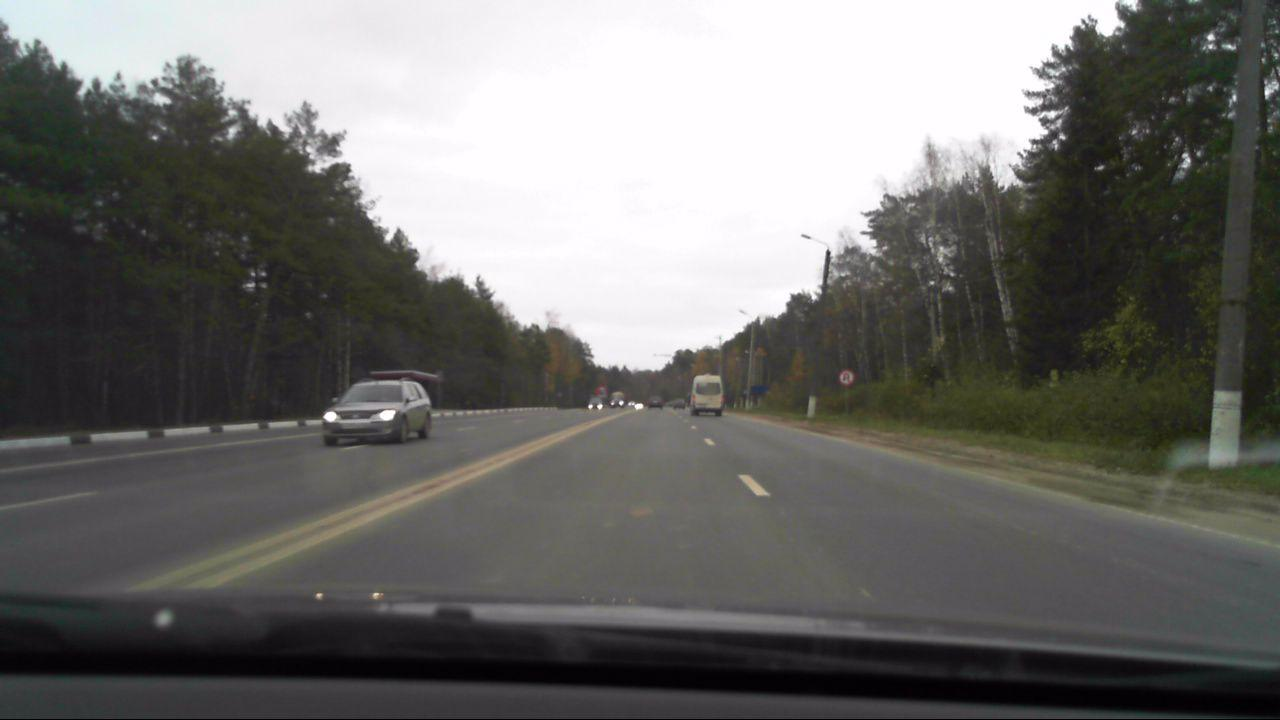3_19: (836, 370, 853, 387)
